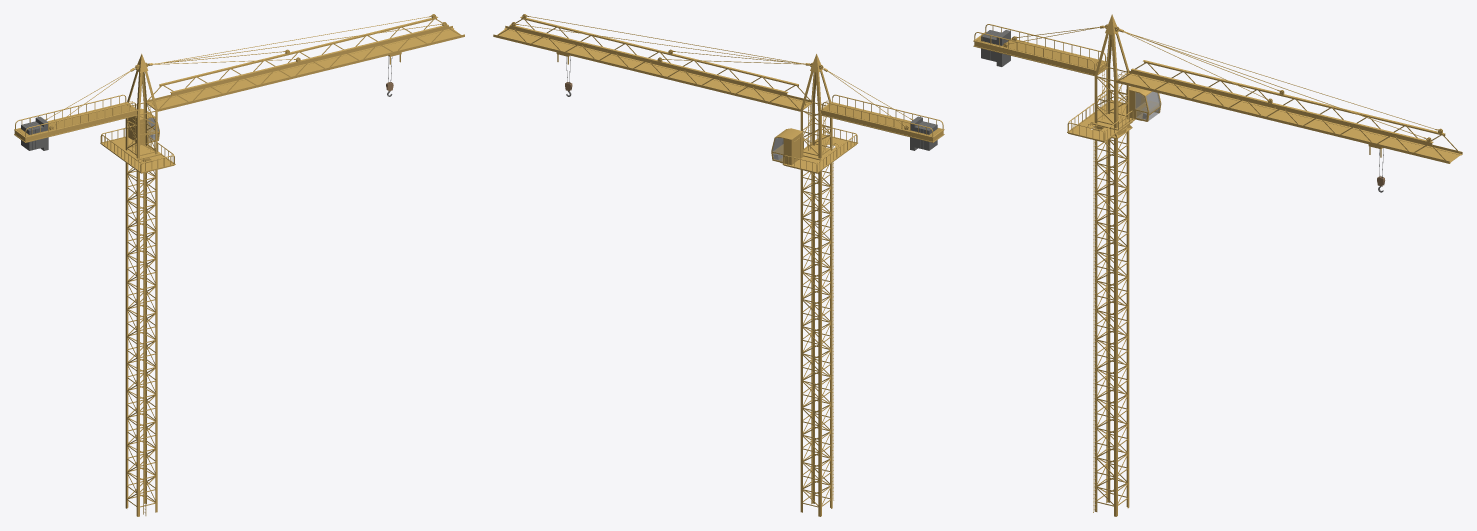
Rendered from tower_crane.glb.
The picture shows the model from 3 angles, left to right: view 1: azimuth 30°, elevation 25°; view 2: azimuth 150°, elevation 25°; view 3: azimuth 330°, elevation 25°; orthographic projection. The views are drawn at different scales.
Parts seen in each view (by area): view 1: TowerCrane; view 2: TowerCrane; view 3: TowerCrane.
Boxes of the visible parts, <box> form: TowerCrane: <box>14,14,464,516</box>; TowerCrane: <box>493,14,944,516</box>; TowerCrane: <box>973,14,1462,516</box>.
Bounding box in the file's own units: 51.5 × 51.17 × 8.27.
